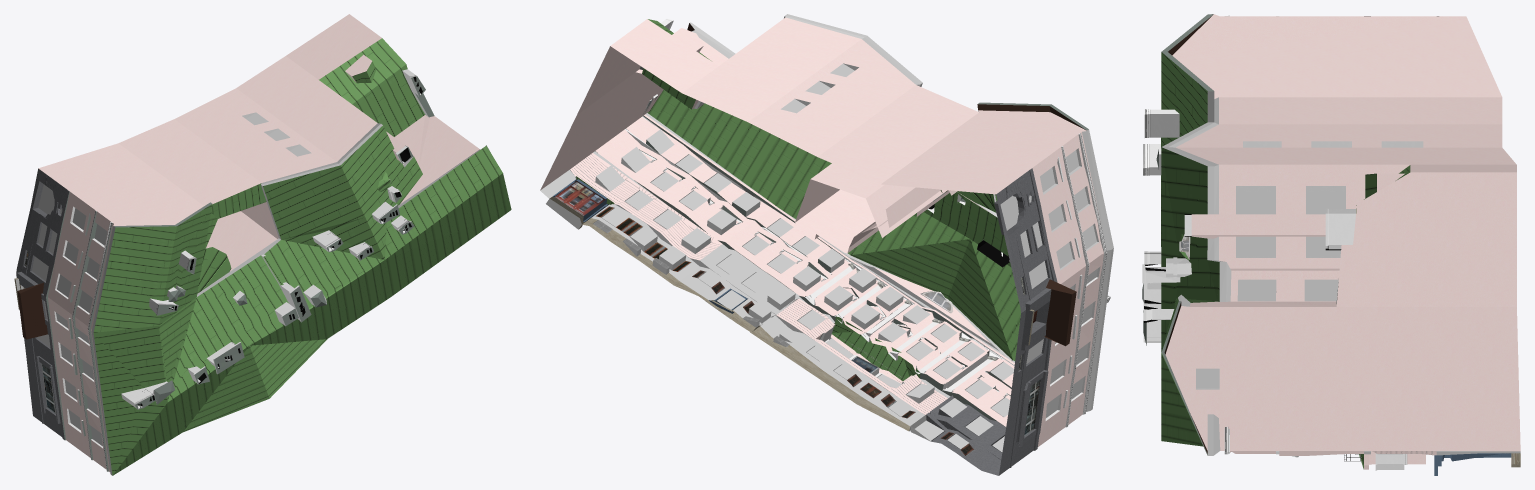
Rendered from Dunkri_8-origo.obj.
The picture shows the model from 3 angles, left to right: view 1: azimuth 30°, elevation 25°; view 2: azimuth 150°, elevation 25°; view 3: azimuth 270°, elevation 25°; orthographic projection. The views are drawn at different scales.
Parts seen in each view (by area): view 1: Dunkri_8; view 2: Dunkri_8; view 3: Dunkri_8.
Boxes of the visible parts, x1,y1,x2,y2 form: Dunkri_8: (14, 14, 511, 475); Dunkri_8: (540, 14, 1113, 475); Dunkri_8: (1142, 14, 1520, 475).
Size of the model in its own units: 43.5 by 29.5 by 20.07.
